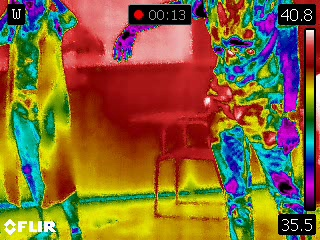human: (112, 1, 309, 240), (1, 1, 86, 239)
